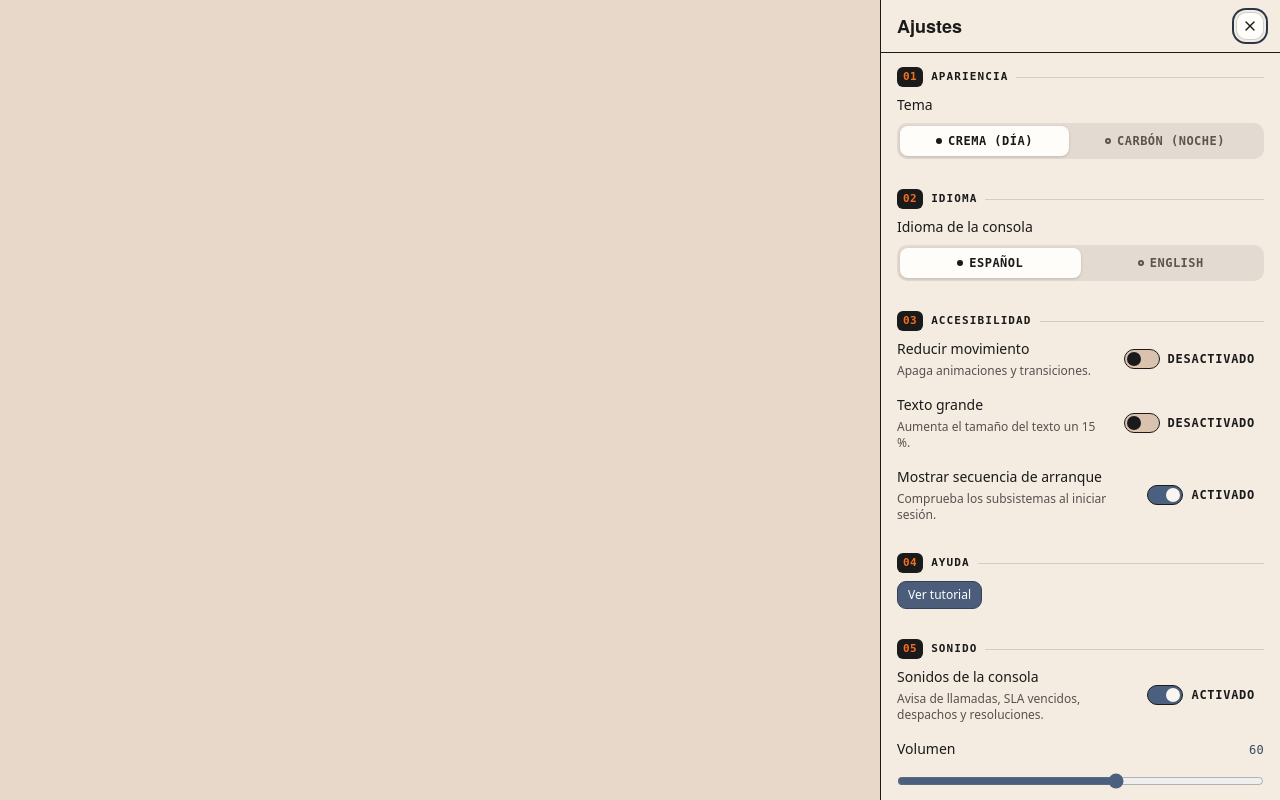
Scenario: PanelAjustes › «Ver tutorial» cierra los ajustes e inicia el recorrido, y solo se ofrece si hay tutorial
The image size is (1280, 800).
Click the button "Ver tutorial": (940, 595) [897,581,982,609]
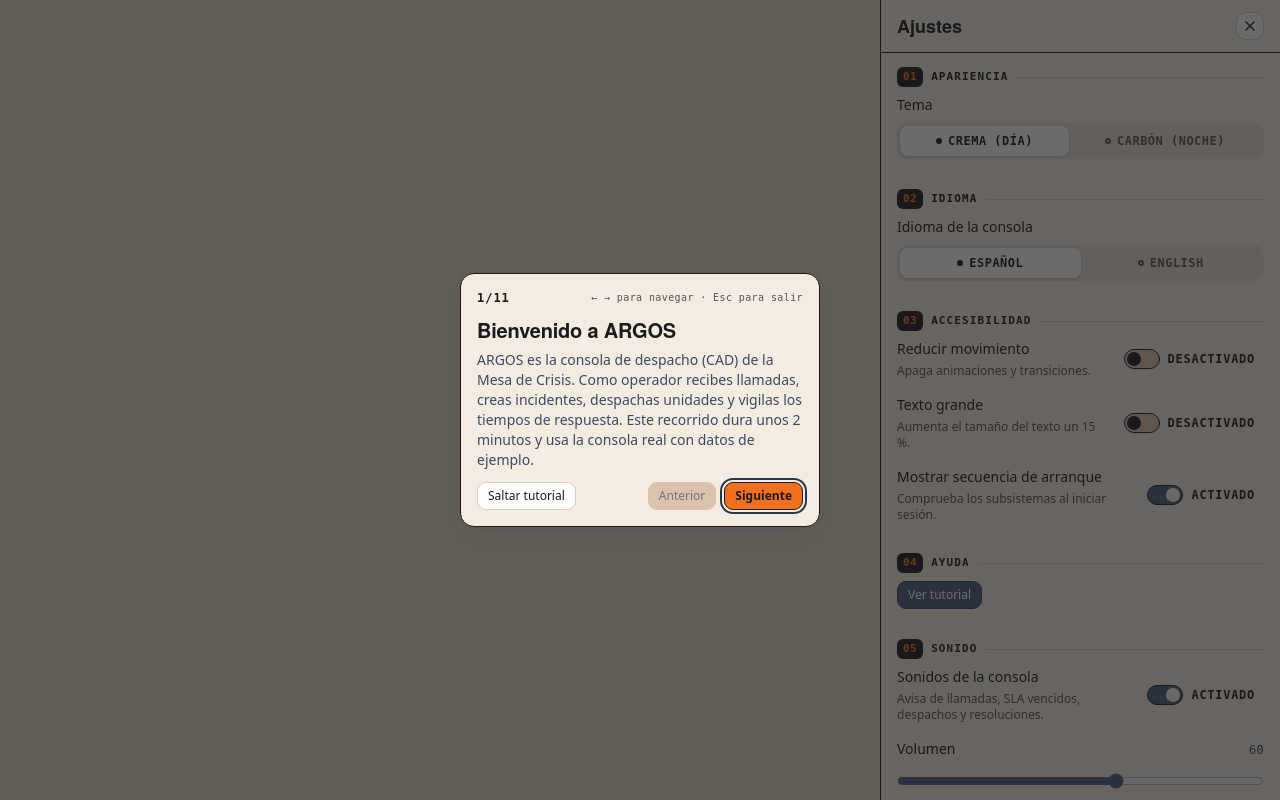
Check: the dialog named "Tutorial guiado" is shown, box [460,273,820,527]
